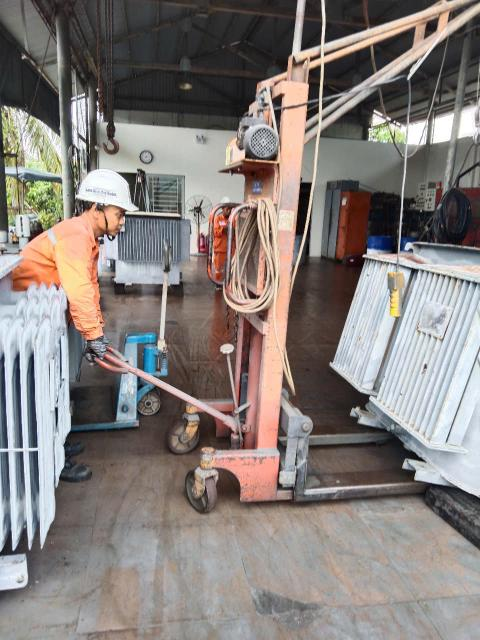gloves: (85, 337, 108, 361), (97, 322, 118, 345)
helmet: (68, 162, 149, 219)
shoes: (54, 459, 99, 486), (47, 433, 88, 456)
